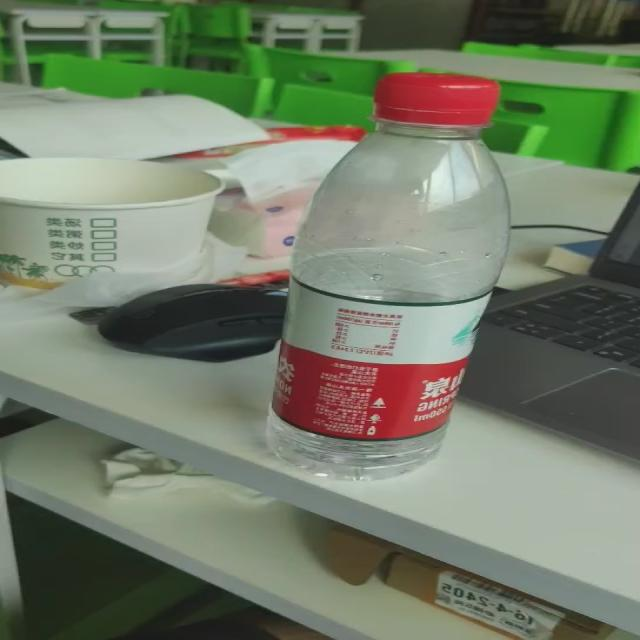plastic: (234, 74, 516, 473)
